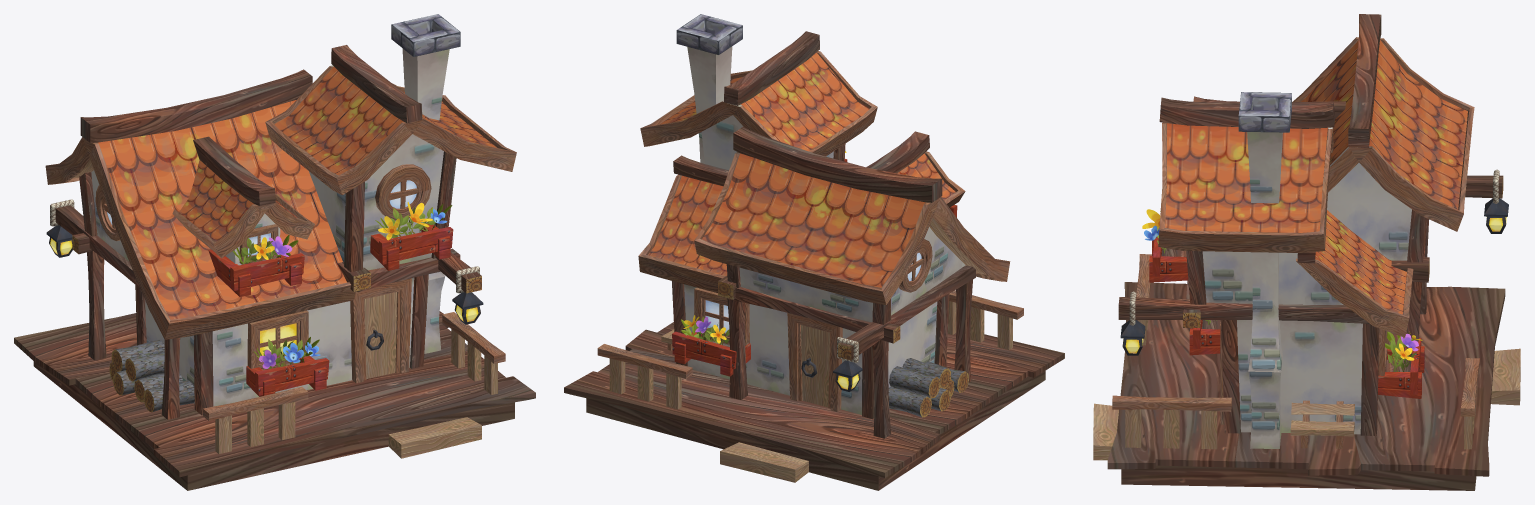
Rendered from cartoon_house.glb.
3 views of the same model, side by side, from view 1: azimuth 30°, elevation 25°; view 2: azimuth 150°, elevation 25°; view 3: azimuth 270°, elevation 25° (orthographic). The views are drawn at different scales.
Visible parts, largest first — view 1: node_House01_-1604_2; view 2: node_House01_-1604_2; view 3: node_House01_-1604_2.
Boxes of the visible parts, box(x1,y1,x2,y2) form: node_House01_-1604_2: box(14, 14, 535, 490); node_House01_-1604_2: box(564, 14, 1064, 490); node_House01_-1604_2: box(1093, 14, 1520, 490).
Bounding box in the file's own units: 7.84 × 7.17 × 7.51.
2 materials, 2 textured.
